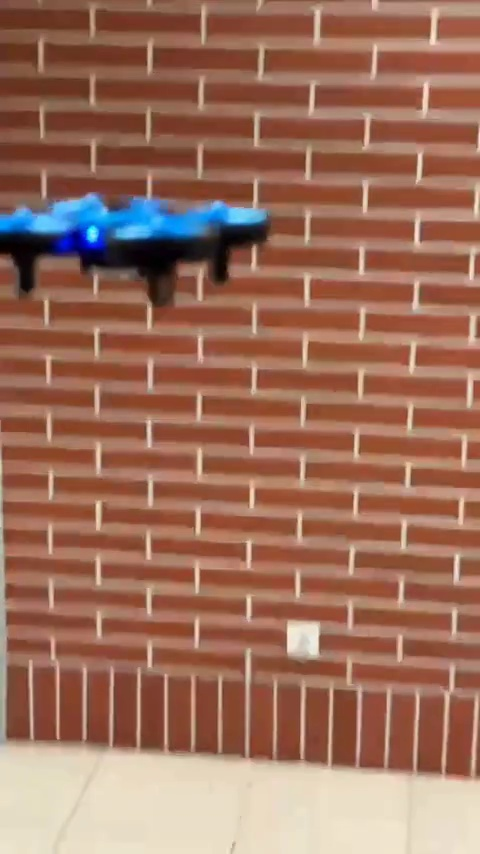drone: (11, 190, 268, 307)
